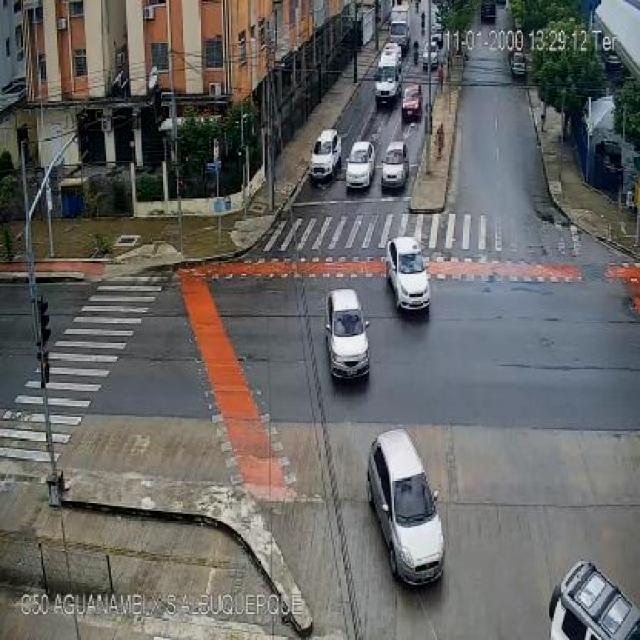Car: (368, 428, 446, 588), (546, 562, 638, 638), (324, 289, 369, 380), (385, 236, 430, 312), (309, 128, 342, 181), (345, 140, 376, 188), (381, 141, 408, 189), (401, 85, 423, 120), (422, 41, 439, 70), (510, 61, 527, 78), (509, 51, 527, 65)
Truck: (388, 10, 410, 51)
Van: (374, 44, 403, 102)
